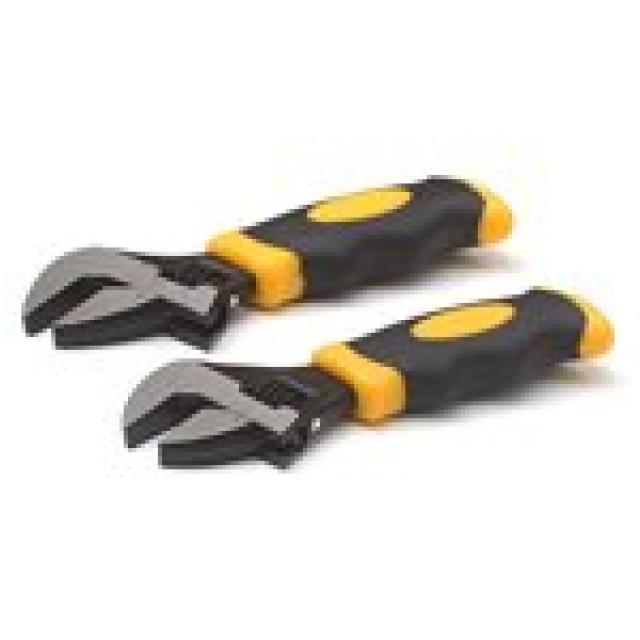wrench: (105, 283, 632, 470), (2, 164, 506, 347)
